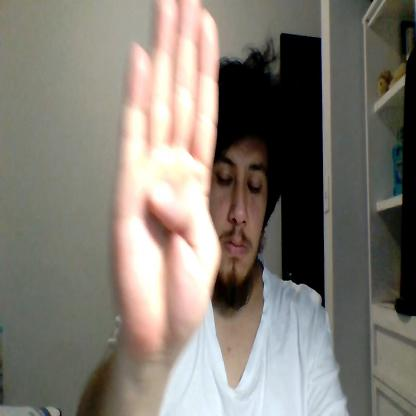B: (108, 0, 221, 358)
